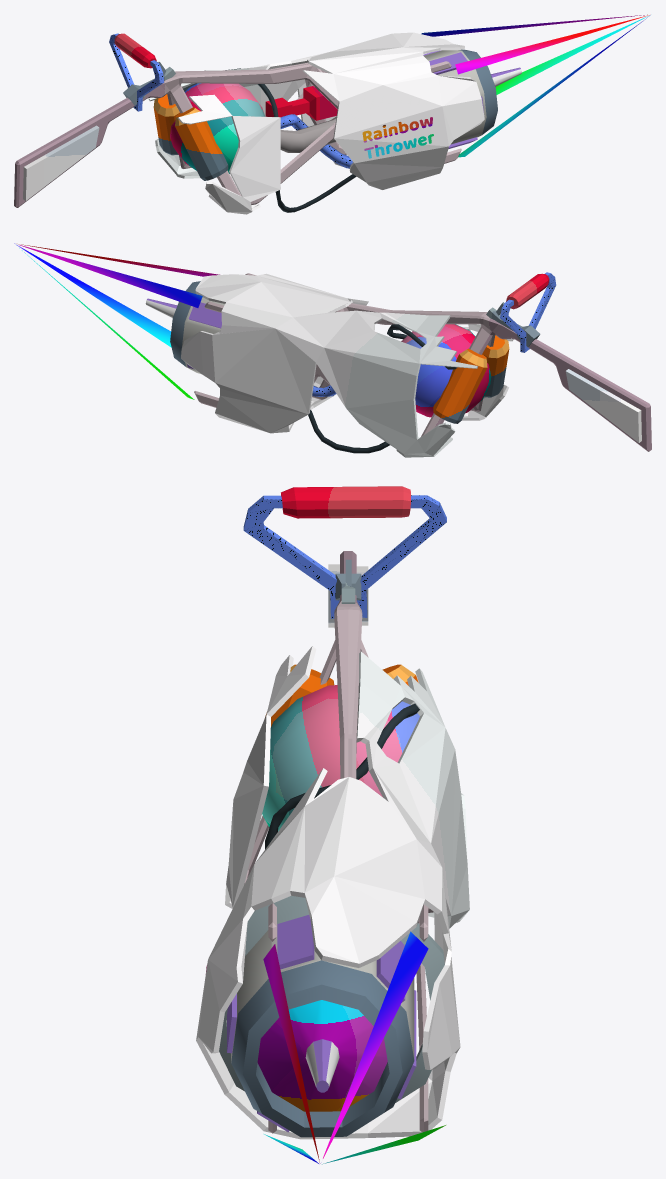
Rendered from rainbow-gun.fbx.
3 renders of one model, top to bottom at view 1: azimuth 30°, elevation 25°; view 2: azimuth 150°, elevation 25°; view 3: azimuth 270°, elevation 25°, orthographic. The views are drawn at different scales.
Visible parts, largest first — view 1: Cylinder.001, Cylinder.007; view 2: Cylinder.001, Cylinder.007; view 3: Cylinder.001, Cylinder.007.
Boxes of the visible parts, bbox=[...] form: Cylinder.001: bbox=[14, 32, 521, 214]; Cylinder.007: bbox=[421, 14, 650, 157]; Cylinder.001: bbox=[145, 272, 651, 457]; Cylinder.007: bbox=[14, 243, 219, 399]; Cylinder.001: bbox=[196, 486, 469, 1139]; Cylinder.007: bbox=[263, 931, 445, 1164].
Size of the model in its own units: 205 by 64.33 by 38.62.
Materials: 2 (2 with a texture image).
